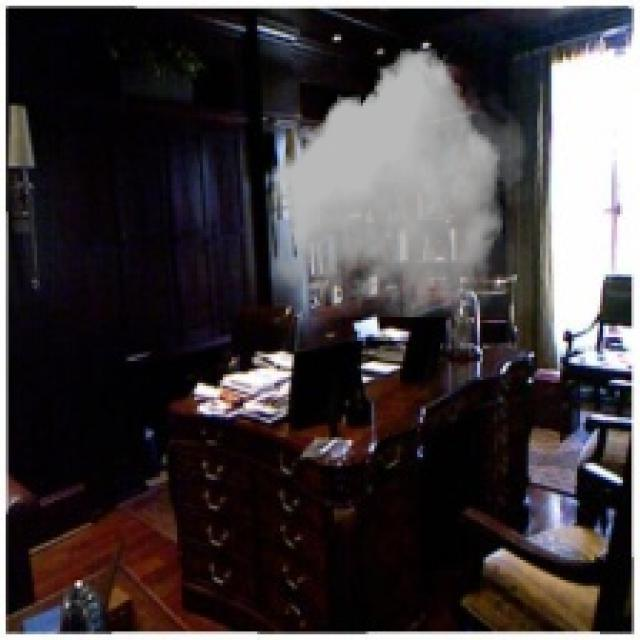Smoke: (266, 49, 534, 318)
